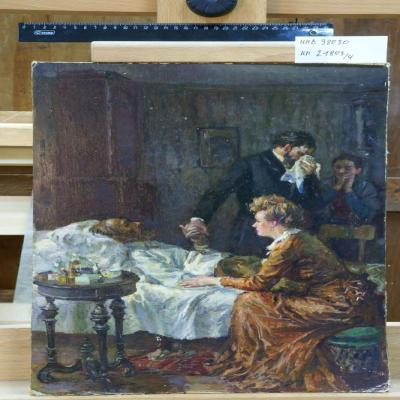painting: (31, 63, 388, 394)
